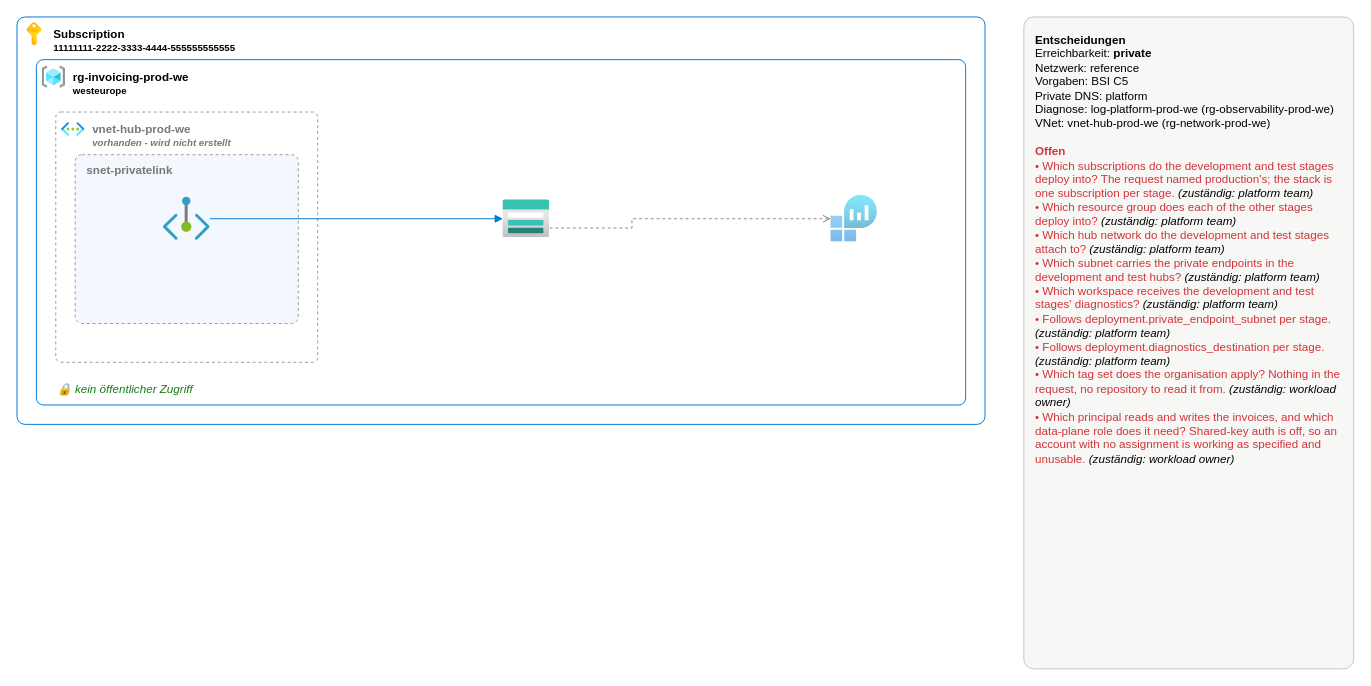
Image size: 1371x686. Some labels were removed from this diagram. Each missing label, with the box of its shape:
Log Analytics log-platform-prod-we vorhanden - wird nicht erstellt: (830, 195, 877, 242)
Private Endpoint storage-account: (163, 195, 210, 242)
Storage Account storage-account: (502, 195, 549, 242)
